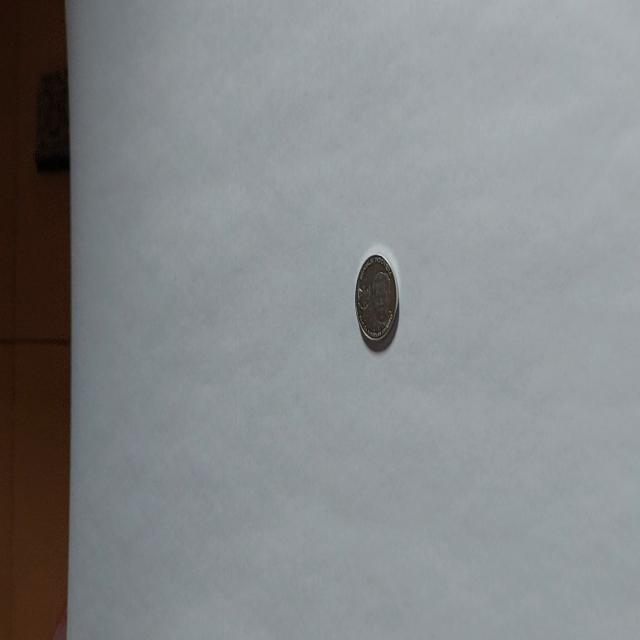seratus rupiah: (354, 252, 399, 351)
